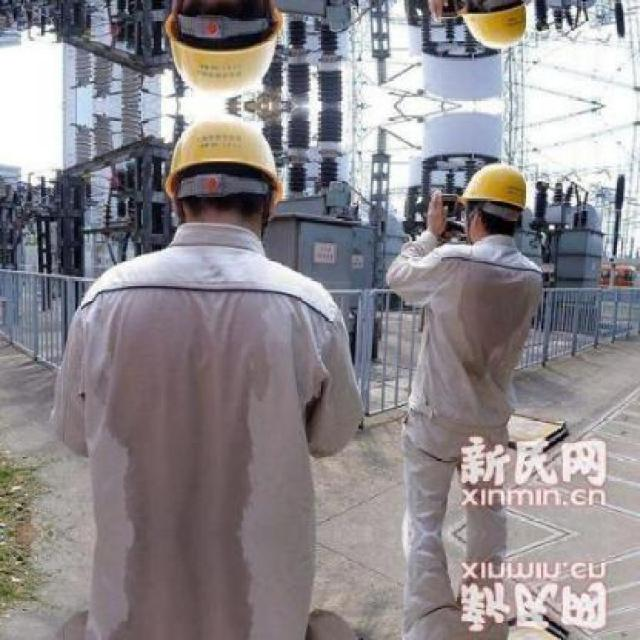helmet: (158, 106, 288, 245), (158, 0, 290, 105), (451, 150, 534, 241), (451, 0, 535, 60)
